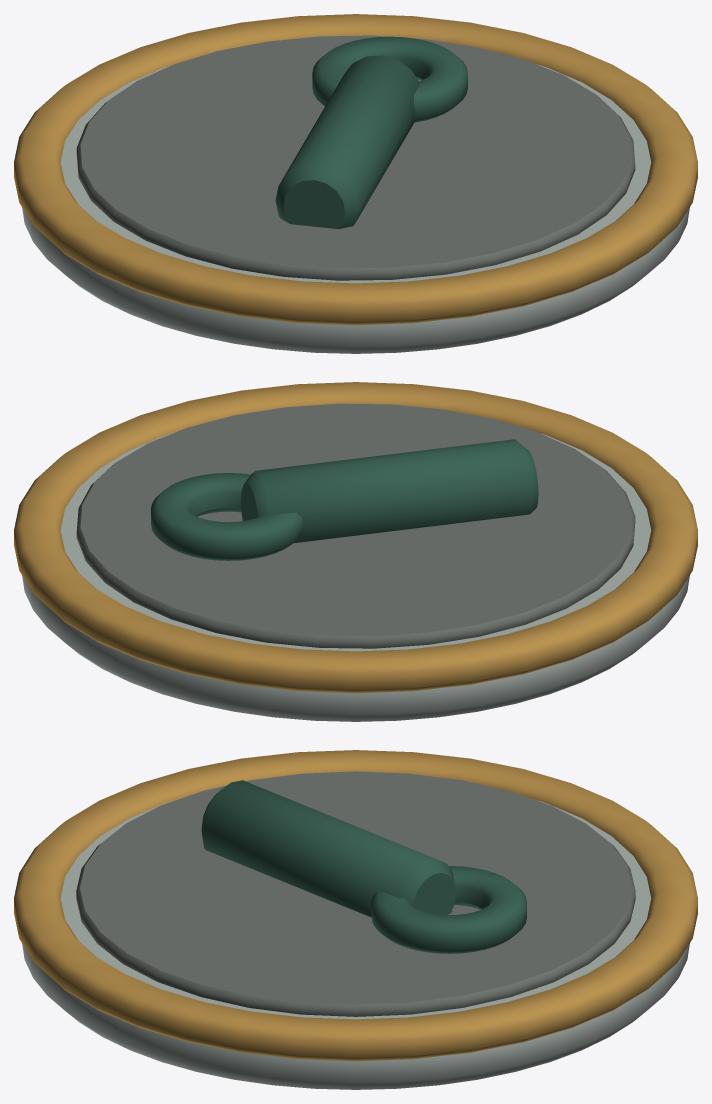
File: ServiceToken_Repair.fbx
3 views of the same model, one above another, from view 1: azimuth 30°, elevation 25°; view 2: azimuth 150°, elevation 25°; view 3: azimuth 270°, elevation 25° (orthographic).
Visible parts, largest first — view 1: Enamel field.002, Raised rim.002, Stamped metal blank.002, Wrench shaft, Wrench head; view 2: Enamel field.002, Raised rim.002, Stamped metal blank.002, Wrench shaft, Wrench head; view 3: Enamel field.002, Raised rim.002, Stamped metal blank.002, Wrench shaft, Wrench head.
Part boxes in pixels (left/top/right/bottom): Enamel field.002: left=76, top=35, right=635, bottom=280; Raised rim.002: left=14, top=14, right=697, bottom=325; Stamped metal blank.002: left=22, top=64, right=689, bottom=353; Wrench shaft: left=275, top=55, right=420, bottom=229; Wrench head: left=312, top=36, right=467, bottom=122; Enamel field.002: left=76, top=403, right=635, bottom=648; Raised rim.002: left=14, top=382, right=697, bottom=693; Stamped metal blank.002: left=22, top=432, right=689, bottom=721; Wrench shaft: left=241, top=439, right=538, bottom=543; Wrench head: left=151, top=473, right=302, bottom=560; Enamel field.002: left=76, top=771, right=635, bottom=1016; Raised rim.002: left=14, top=750, right=697, bottom=1061; Stamped metal blank.002: left=22, top=800, right=689, bottom=1089; Wrench shaft: left=201, top=780, right=455, bottom=917; Wrench head: left=371, top=866, right=526, bottom=953.
Size of the model in its own units: 0.088 by 0.0175 by 0.088.
